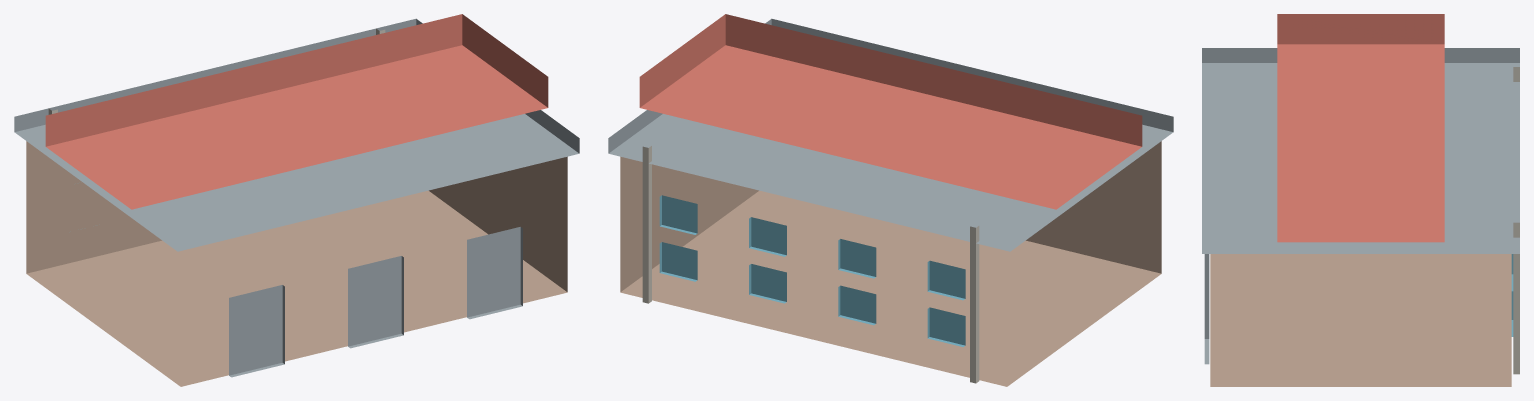
Rendered from warehouse_high.glb.
3 views of the same model, side by side, from view 1: azimuth 30°, elevation 25°; view 2: azimuth 150°, elevation 25°; view 3: azimuth 270°, elevation 25° (orthographic). The views are drawn at different scales.
Parts seen in each view (by area): view 1: warehouse high; view 2: warehouse high; view 3: warehouse high.
Part boxes in pixels (x1,y1,x2,y2): warehouse high: (14, 14, 579, 386); warehouse high: (608, 14, 1173, 386); warehouse high: (1202, 14, 1519, 386).
Bounding box in the file's own units: 28 × 12 × 19.
